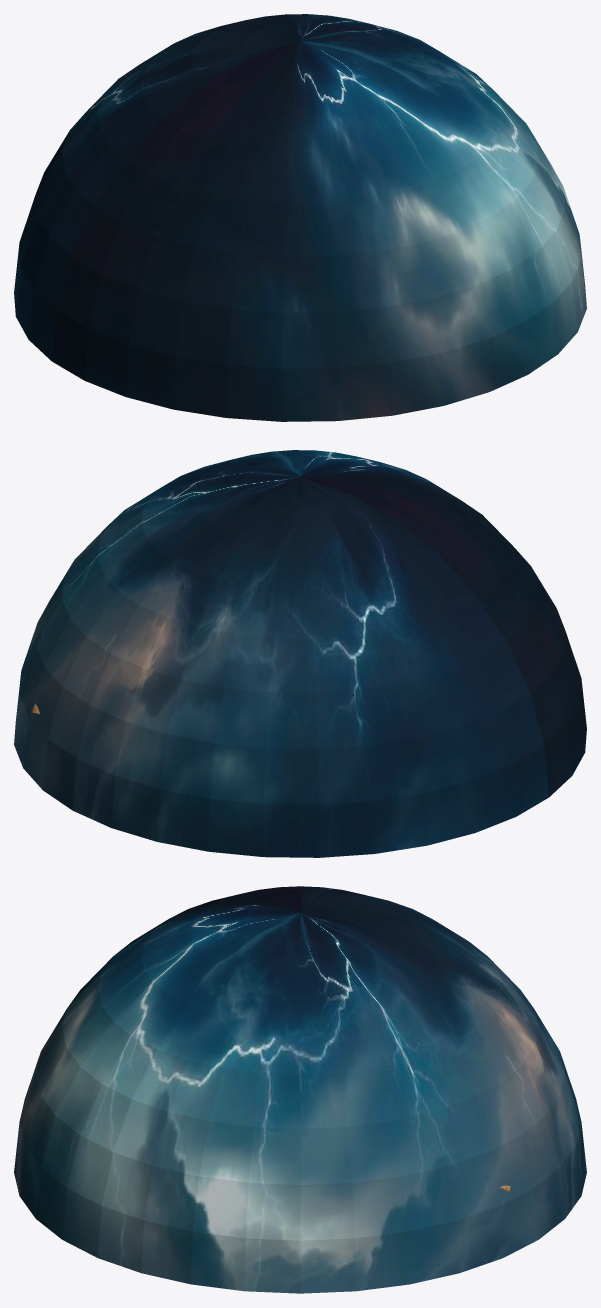
File: mapa.gltf
3 renders of one model, top to bottom at view 1: azimuth 30°, elevation 25°; view 2: azimuth 150°, elevation 25°; view 3: azimuth 270°, elevation 25°, orthographic.
Visible parts, largest first — view 1: Sphere; view 2: Sphere; view 3: Sphere.
Boxes of the visible parts, <box> form: Sphere: <box>14,14,586,421</box>; Sphere: <box>14,450,586,857</box>; Sphere: <box>14,886,586,1293</box>.
Bounding box in the file's own units: 14156 × 7558 × 14156.
3 materials, 3 textured.
